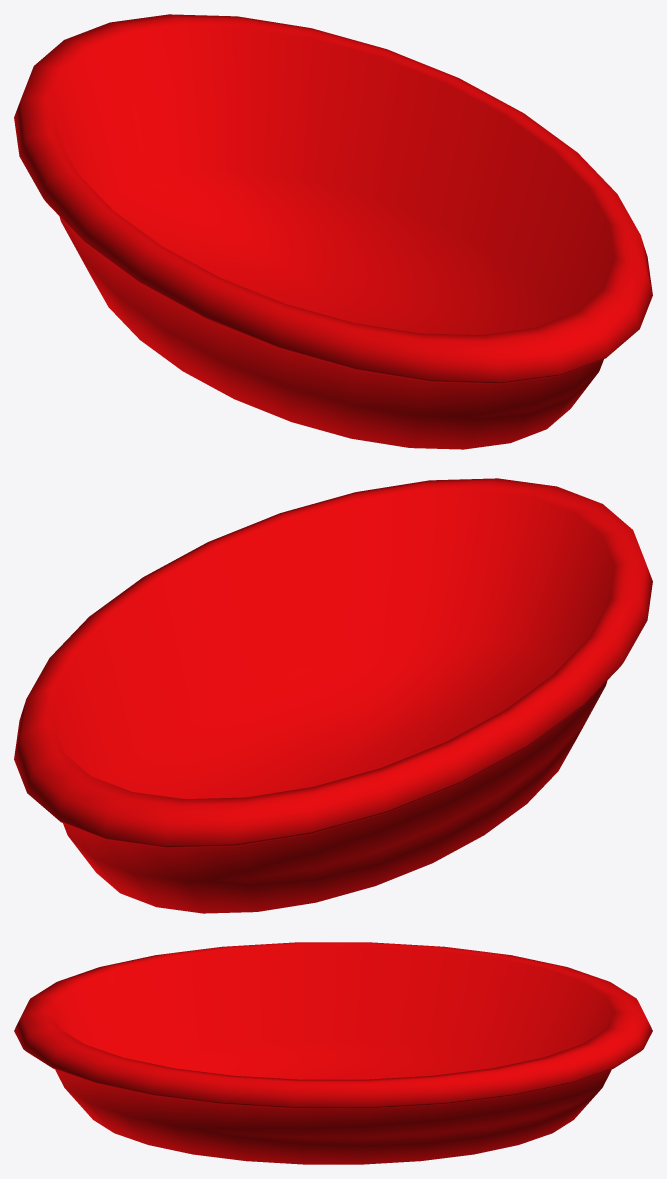
The model's file is S_Fruit_pot.fbx.
3 renders of one model, top to bottom at view 1: azimuth 30°, elevation 25°; view 2: azimuth 150°, elevation 25°; view 3: azimuth 270°, elevation 25°, orthographic. The views are drawn at different scales.
Visible parts, largest first — view 1: Cylinder_low; view 2: Cylinder_low; view 3: Cylinder_low.
Part boxes in pixels (box(x1,y1,x2,y2)): Cylinder_low: box(14, 14, 652, 449); Cylinder_low: box(14, 478, 652, 913); Cylinder_low: box(14, 942, 652, 1164).
Bounding box in the file's own units: 0.246 × 0.0712 × 0.4379.
